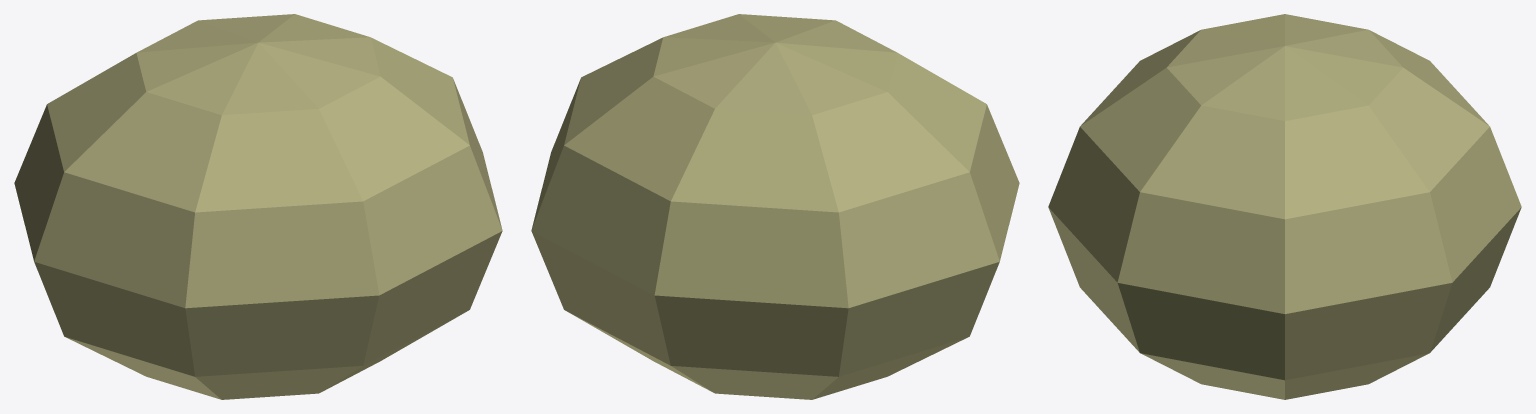
Rendered from ENV_Greenwood_Rock_A_V1.glb.
3 views of the same model, side by side, from view 1: azimuth 30°, elevation 25°; view 2: azimuth 150°, elevation 25°; view 3: azimuth 270°, elevation 25° (orthographic). The views are drawn at different scales.
Parts seen in each view (by area): view 1: Rock; view 2: Rock; view 3: Rock.
Boxes of the visible parts, x1,y1,x2,y2 form: Rock: (14,14,502,399); Rock: (531,14,1019,399); Rock: (1048,14,1521,399).
Size of the model in its own units: 3 by 2.1 by 2.8.
